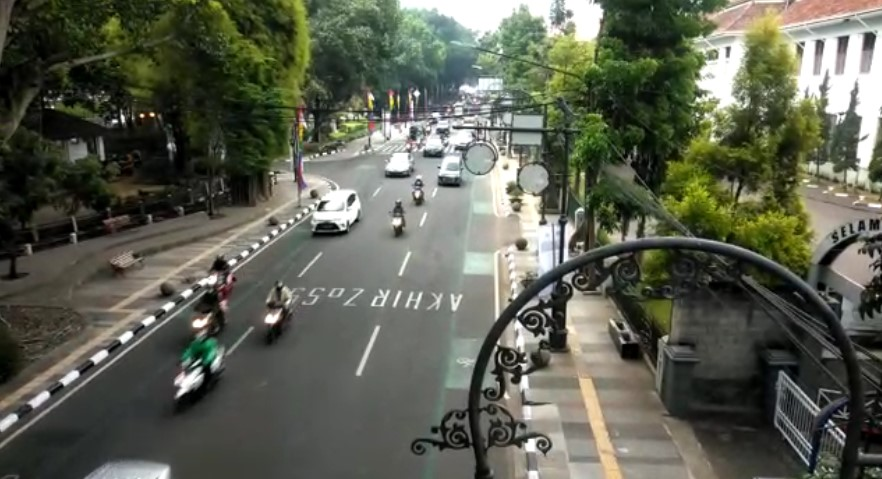mobil: (306, 185, 363, 240), (435, 156, 466, 188), (384, 152, 412, 176)
motor: (171, 330, 226, 405), (182, 286, 230, 338), (262, 282, 296, 344), (200, 255, 238, 301), (390, 201, 408, 232), (409, 177, 429, 203)
